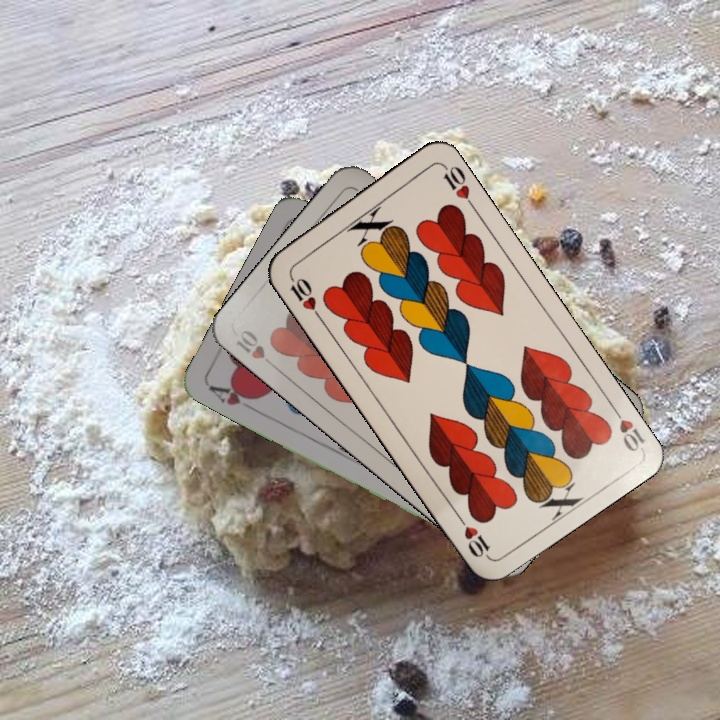H10: (231, 325, 280, 373), (606, 399, 648, 455), (285, 269, 324, 321)
HA: (204, 380, 262, 408)
